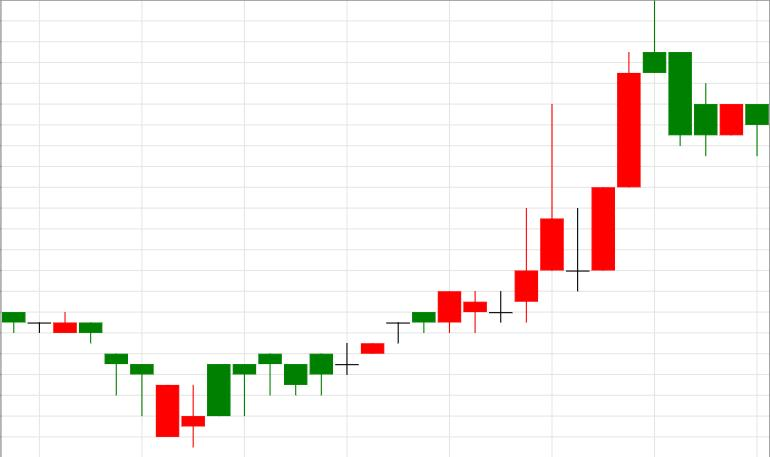shooting_star_fall: (335, 208, 537, 375)
